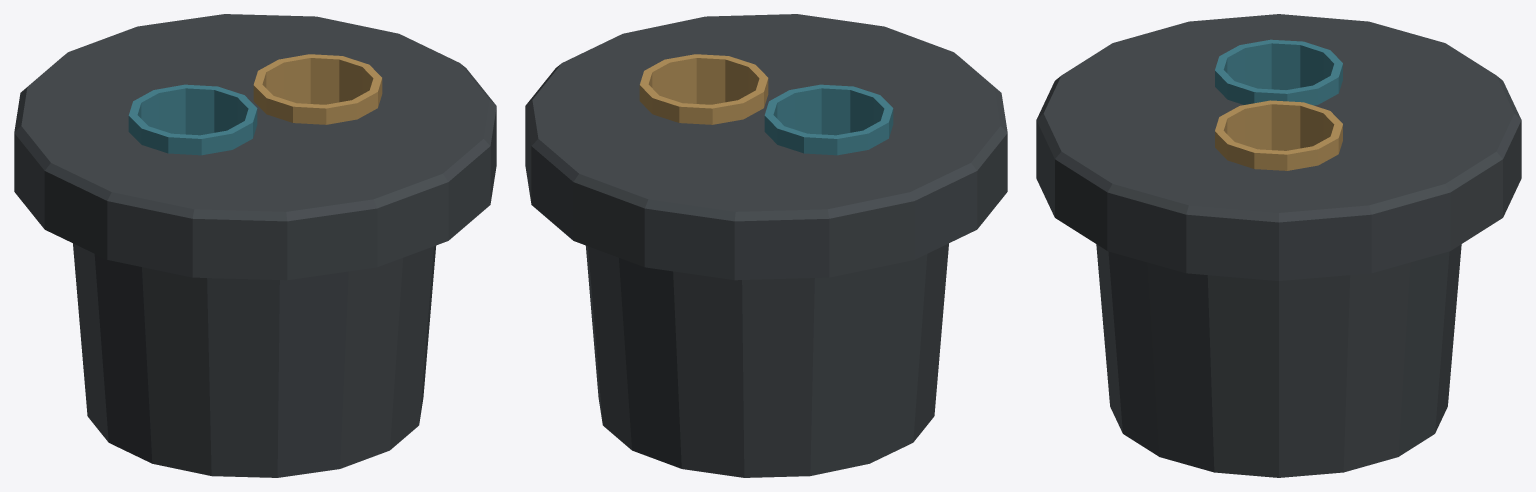
File: VLAB_stopper.fbx
3 renders of one model, left to right at view 1: azimuth 30°, elevation 25°; view 2: azimuth 150°, elevation 25°; view 3: azimuth 270°, elevation 25°, orthographic.
Parts seen in each view (by area): view 1: VLAB_stopper_Stopper_VIS, VLAB_stopper_Port2_VIS, VLAB_stopper_Port1_VIS; view 2: VLAB_stopper_Stopper_VIS, VLAB_stopper_Port2_VIS, VLAB_stopper_Port1_VIS; view 3: VLAB_stopper_Stopper_VIS, VLAB_stopper_Port2_VIS, VLAB_stopper_Port1_VIS.
Boxes of the visible parts, x1,y1,x2,y2 form: VLAB_stopper_Stopper_VIS: (14,14,496,477); VLAB_stopper_Port2_VIS: (253,54,382,124); VLAB_stopper_Port1_VIS: (128,84,257,155); VLAB_stopper_Stopper_VIS: (525,14,1007,477); VLAB_stopper_Port2_VIS: (639,54,768,124); VLAB_stopper_Port1_VIS: (764,84,893,155); VLAB_stopper_Stopper_VIS: (1036,14,1521,477); VLAB_stopper_Port2_VIS: (1215,100,1342,170); VLAB_stopper_Port1_VIS: (1215,39,1342,105).
Bounding box in the file's own units: 0.027 × 0.019 × 0.027.
